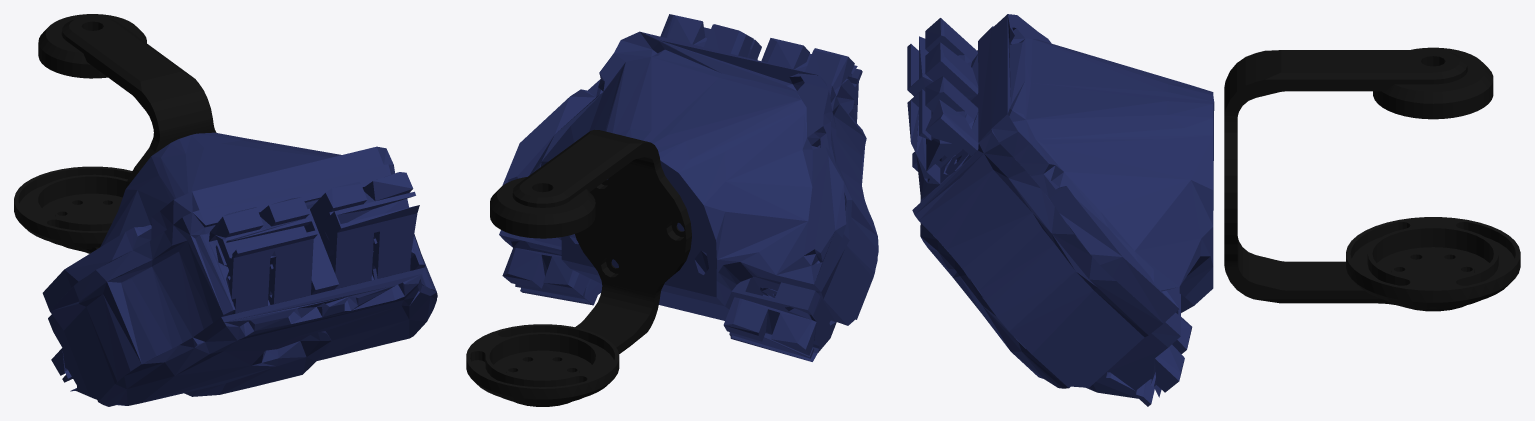
File: endEffectorWPalm_left_blue.obj
3 views of the same model, side by side, from view 1: azimuth 30°, elevation 25°; view 2: azimuth 150°, elevation 25°; view 3: azimuth 270°, elevation 25° (orthographic). The views are drawn at different scales.
Visible parts, largest first — view 1: Mesh_obj0_obj0.003, wrist_yaw_right.002, wrist_yaw_right_flange.002; view 2: Mesh_obj0_obj0.003, wrist_yaw_right.002, wrist_yaw_right_flange.002; view 3: Mesh_obj0_obj0.003, wrist_yaw_right.002, wrist_yaw_right_flange.002.
Part boxes in pixels (x1=…): Mesh_obj0_obj0.003: x1=42, y1=132, x2=437, y2=406; wrist_yaw_right.002: x1=38, y1=14, x2=216, y2=253; wrist_yaw_right_flange.002: x1=14, y1=166, x2=132, y2=249; Mesh_obj0_obj0.003: x1=499, y1=14, x2=878, y2=361; wrist_yaw_right.002: x1=490, y1=129, x2=691, y2=406; wrist_yaw_right_flange.002: x1=466, y1=324, x2=619, y2=404; Mesh_obj0_obj0.003: x1=907, y1=14, x2=1214, y2=406; wrist_yaw_right.002: x1=1224, y1=47, x2=1493, y2=311; wrist_yaw_right_flange.002: x1=1346, y1=217, x2=1520, y2=308.
Size of the model in its own units: 0.111 by 0.0779 by 0.1614.
